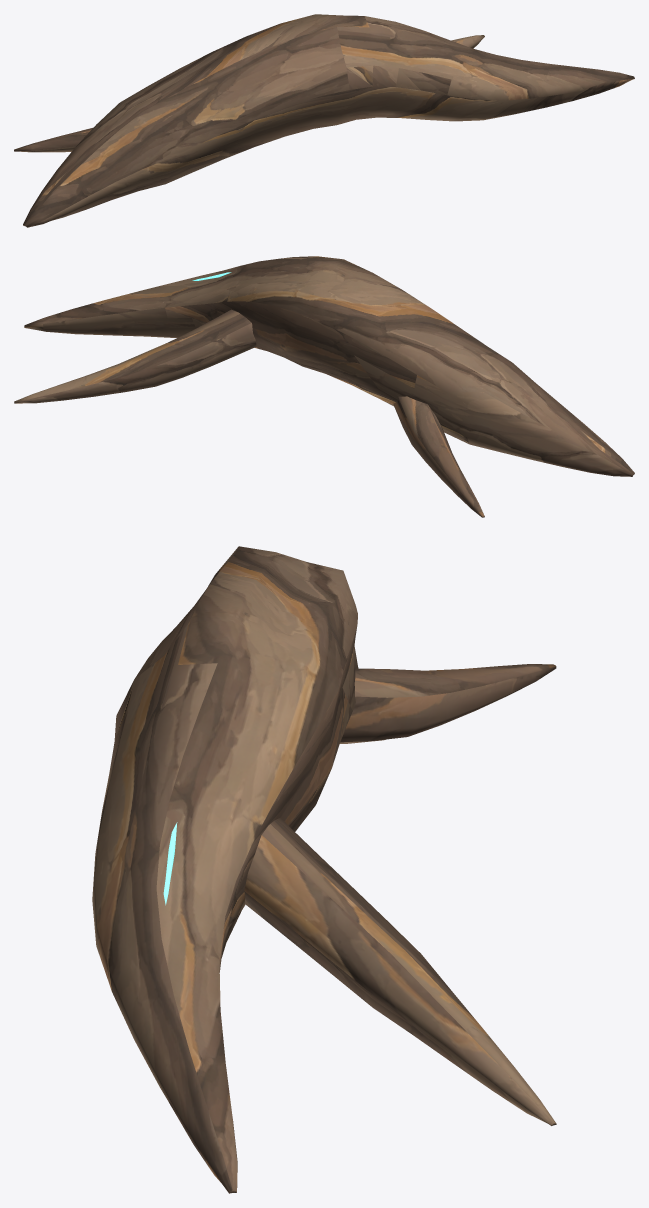
File: SM_RB_CrawlingRoot.fbx
3 views of the same model, one above another, from view 1: azimuth 30°, elevation 25°; view 2: azimuth 150°, elevation 25°; view 3: azimuth 270°, elevation 25° (orthographic). The views are drawn at different scales.
Parts seen in each view (by area): view 1: SM_RB_CrawlingRoot; view 2: SM_RB_CrawlingRoot; view 3: SM_RB_CrawlingRoot.
Boxes of the visible parts, x1,y1,x2,y2 form: SM_RB_CrawlingRoot: (14,14,634,227); SM_RB_CrawlingRoot: (14,256,634,517); SM_RB_CrawlingRoot: (92,546,556,1193).
Bounding box in the file's own units: 7.02 × 2.31 × 1.51.
